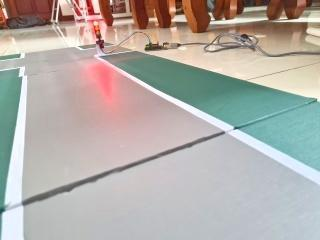red: (90, 18, 107, 44)
